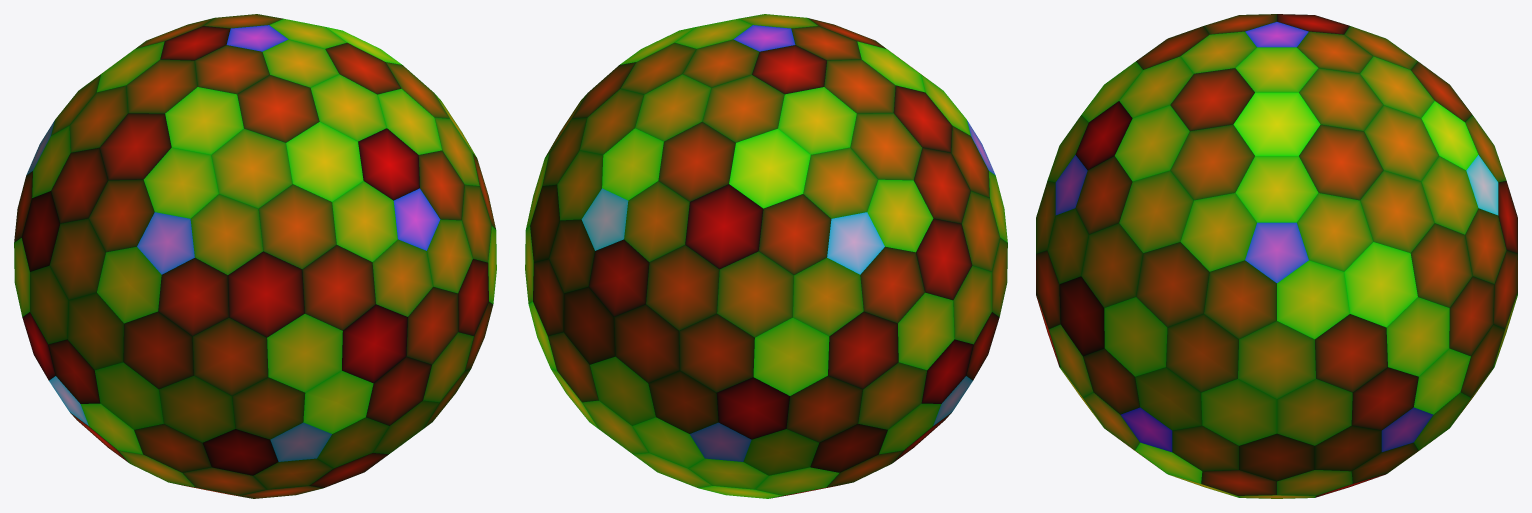
Rendered from HexSphere.fbx.
3 views of the same model, side by side, from view 1: azimuth 30°, elevation 25°; view 2: azimuth 150°, elevation 25°; view 3: azimuth 270°, elevation 25° (orthographic).
Parts seen in each view (by area): view 1: HexSphere_Baked; view 2: HexSphere_Baked; view 3: HexSphere_Baked.
Part boxes in pixels (x1,y1,x2,y2): HexSphere_Baked: (14,14,496,498); HexSphere_Baked: (525,14,1007,498); HexSphere_Baked: (1036,14,1517,498).
Size of the model in its own units: 1.94 by 1.96 by 1.94.
